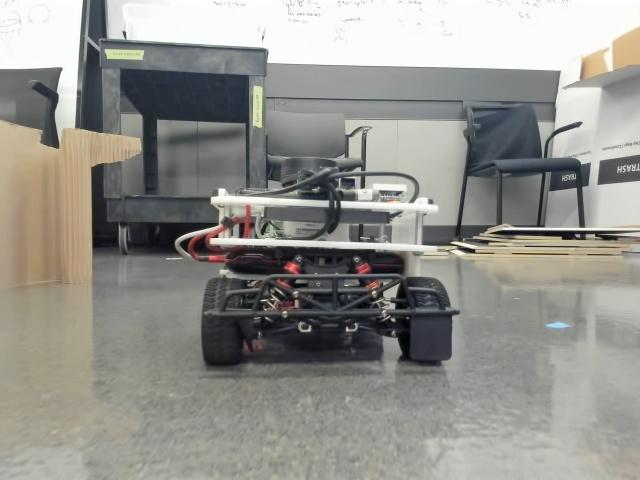Car: (196, 150, 458, 363)
